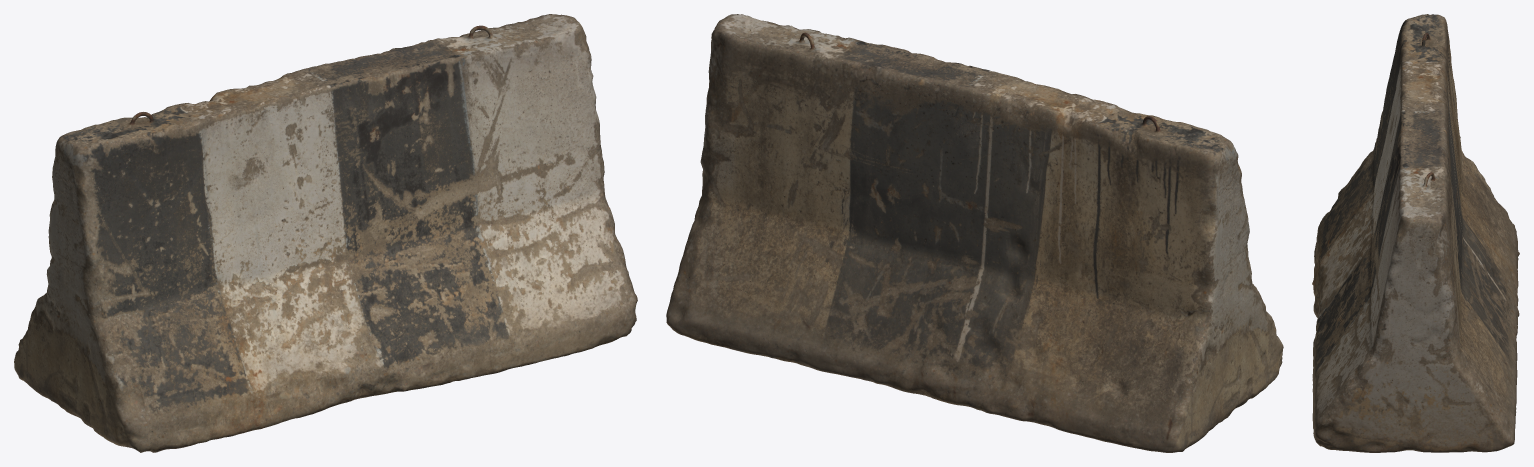
File: concrete_road_barrier_2k.gltf
3 renders of one model, left to right at view 1: azimuth 30°, elevation 25°; view 2: azimuth 150°, elevation 25°; view 3: azimuth 270°, elevation 25°, orthographic. The views are drawn at different scales.
Parts seen in each view (by area): view 1: concrete_road_barrier; view 2: concrete_road_barrier; view 3: concrete_road_barrier.
Boxes of the visible parts, x1,y1,x2,y2 form: concrete_road_barrier: [14, 14, 637, 452]; concrete_road_barrier: [666, 14, 1283, 452]; concrete_road_barrier: [1312, 14, 1519, 452].
Bounding box in the file's own units: 1.55 × 0.831 × 0.6387.
1 material, 1 textured.
